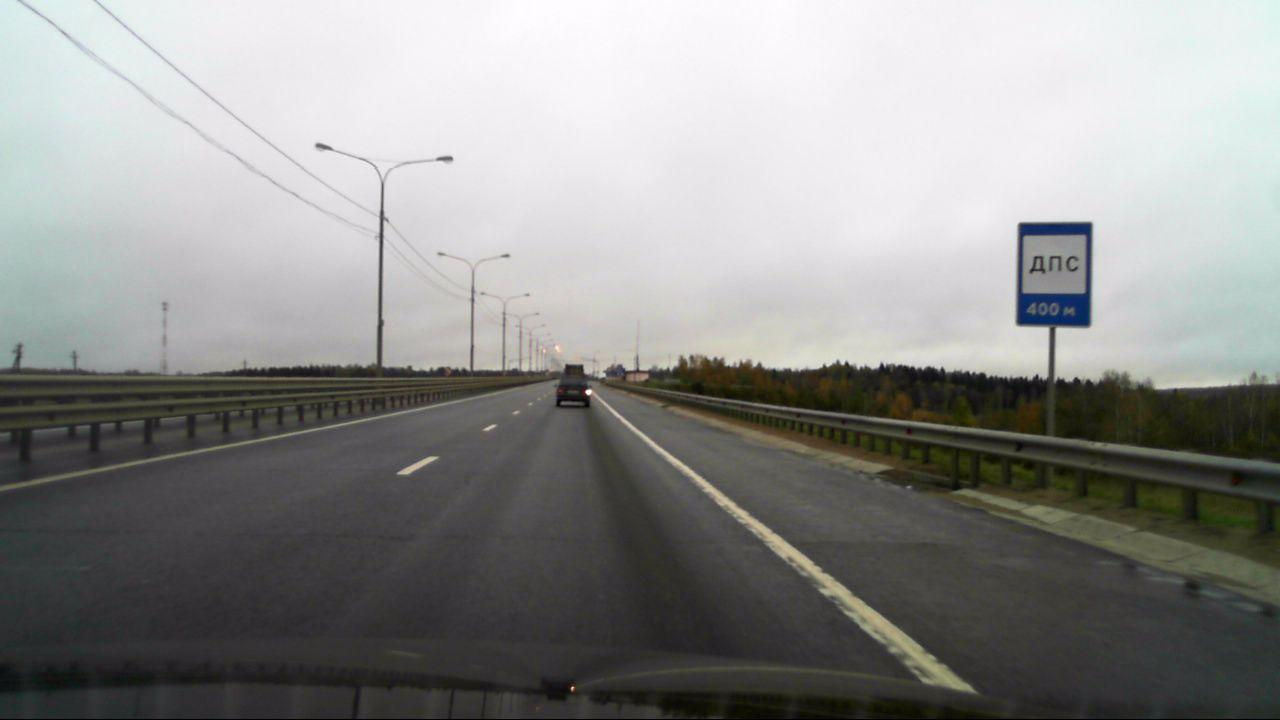7_12: (1015, 221, 1093, 328)
